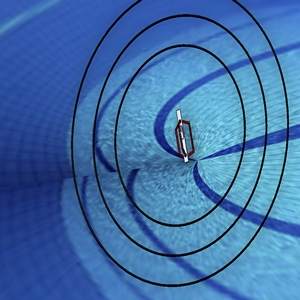circle: (58, 1, 290, 289)
submarine: (157, 99, 201, 166)
